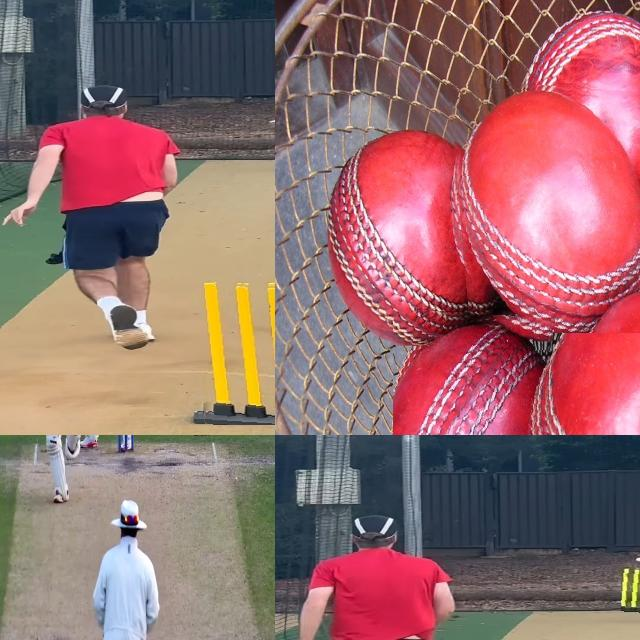Cricket ball: (448, 79, 640, 333), (393, 308, 555, 435), (541, 270, 640, 435), (634, 556, 640, 562)
Stumps: (192, 281, 275, 425), (621, 568, 640, 613), (116, 435, 134, 459)
